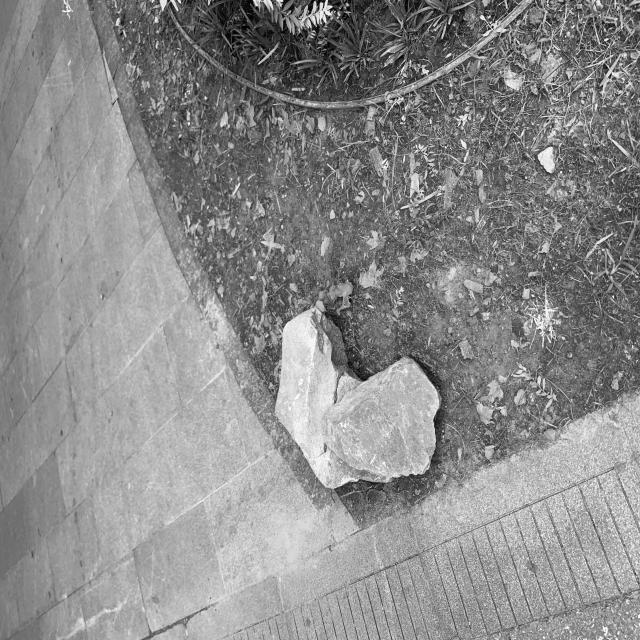Stone: (275, 309, 361, 488), (325, 358, 440, 478)
